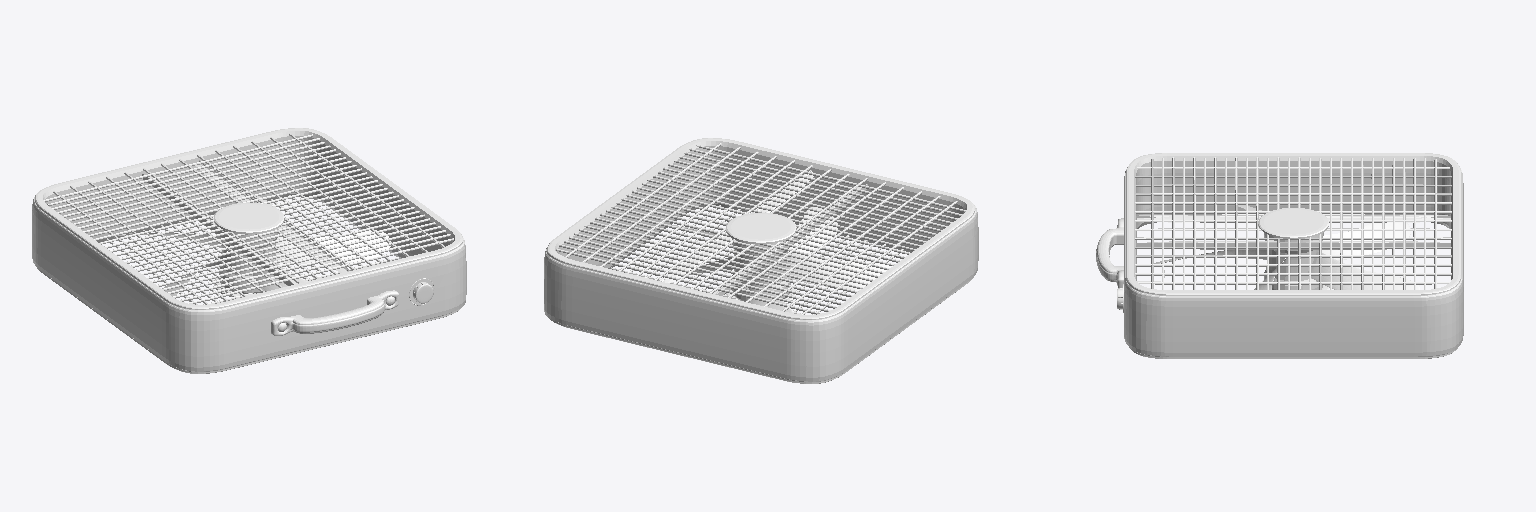
3 views of the same model, side by side, from view 1: azimuth 30°, elevation 25°; view 2: azimuth 150°, elevation 25°; view 3: azimuth 270°, elevation 25° (orthographic).
Parts seen in each view (by area): view 1: default; view 2: default; view 3: default.
Boxes of the visible parts, x1,y1,x2,y2 form: default: [32, 128, 466, 373]; default: [544, 138, 978, 383]; default: [1096, 153, 1463, 358].
Bounding box in the file's own units: 12.15 × 2.69 × 13.13.
Materials: 1 (1 with a texture image).